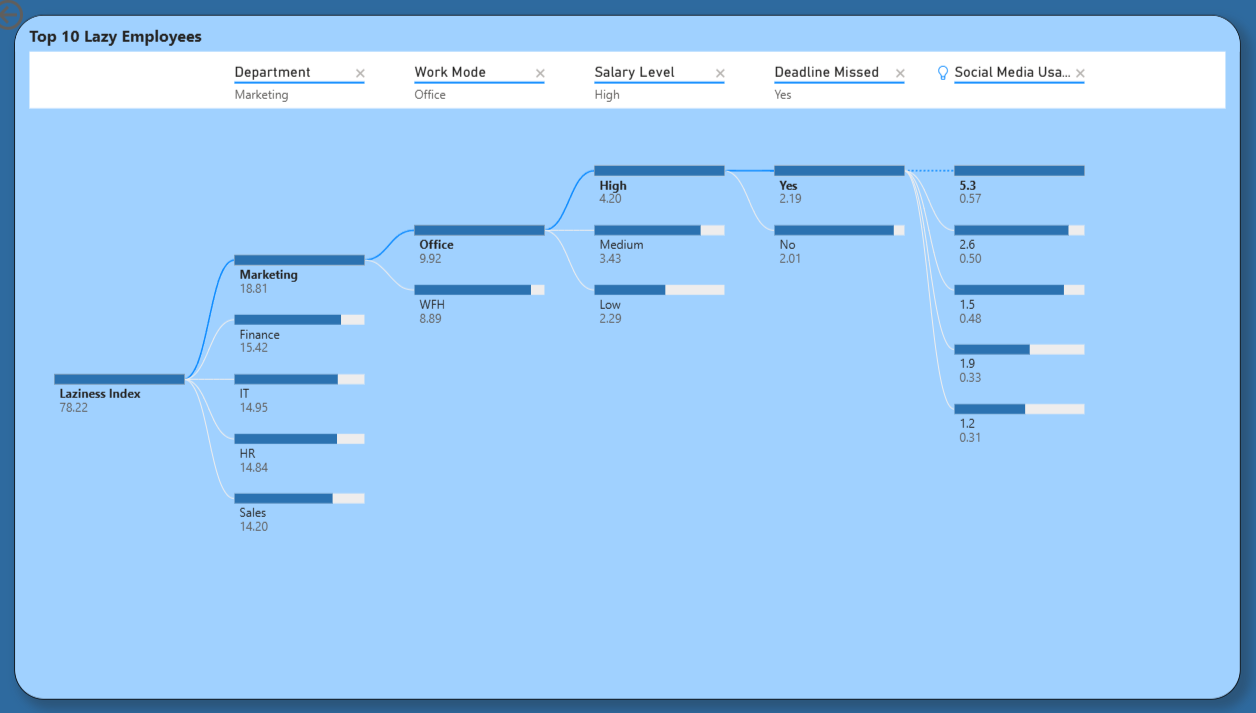

The page's visual inventory and layout, read from the dashboard file:
{"tool":"powerbi","page":{"name":"Decomposition Tree","canvas":[1280,720],"ordinal":3},"visuals":[{"type":"decompositionTreeVisual","title":"Top 10 Lazy Employees","fields":{"Analyze":["Sum(Laziness_Analysis_200_Records.Laziness_Index)"],"ExplainBy":["Laziness_Analysis_200_Records.Department","Laziness_Analysis_200_Records.Work_Mode","Laziness_Analysis_200_Records.Salary_Level","Laziness_Analysis_200_Records.Deadline_Missed","Laziness_Analysis_200_Records.Social_Media_Usage_Hours"]},"box":[25.7,19.6,1226.5,684.8],"z":0},{"type":"actionButton","box":[0,0,100,40],"z":1000}]}

Visuals, with their boxes in screenshot pixels (x1, y1, x2, y2), scaled from the page's 1280x720 canvas onto the 1256x713 screenshot:
"Top 10 Lazy Employees" decompositionTreeVisual: rect(25, 19, 1229, 698)
actionButton: rect(0, 0, 98, 40)
